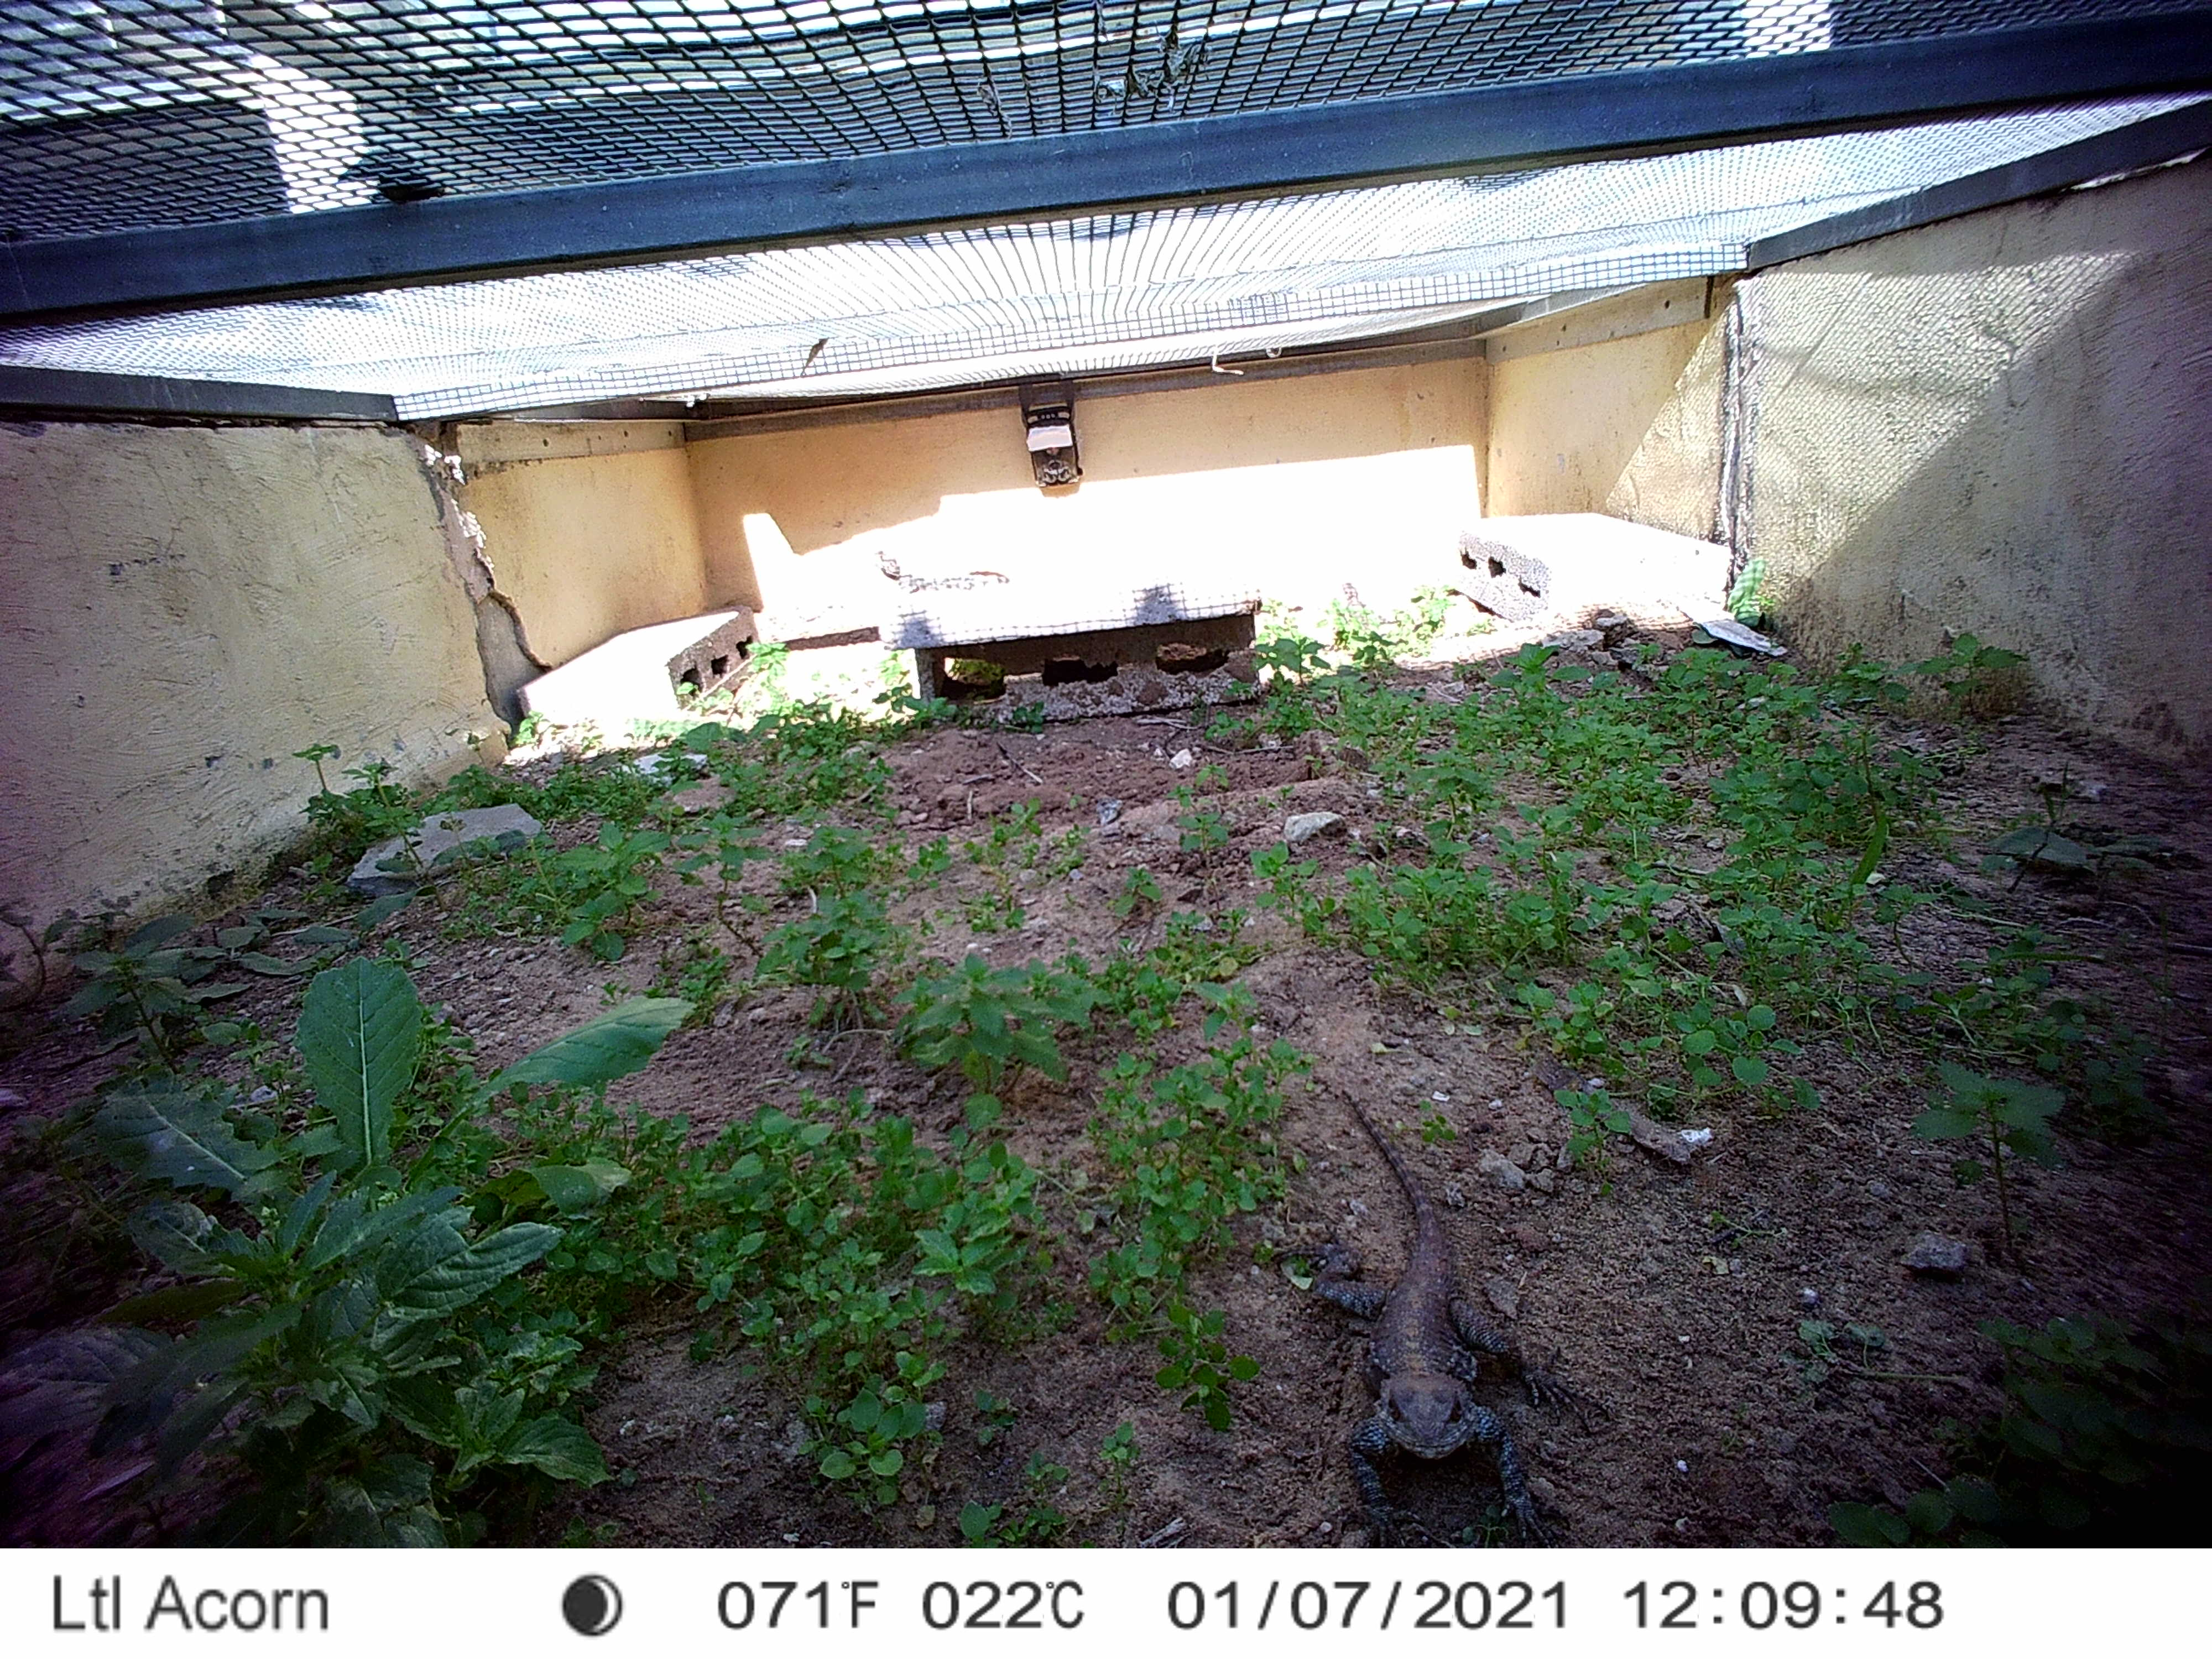lizard: (1252, 1082, 1606, 1534), (874, 547, 1017, 610)
